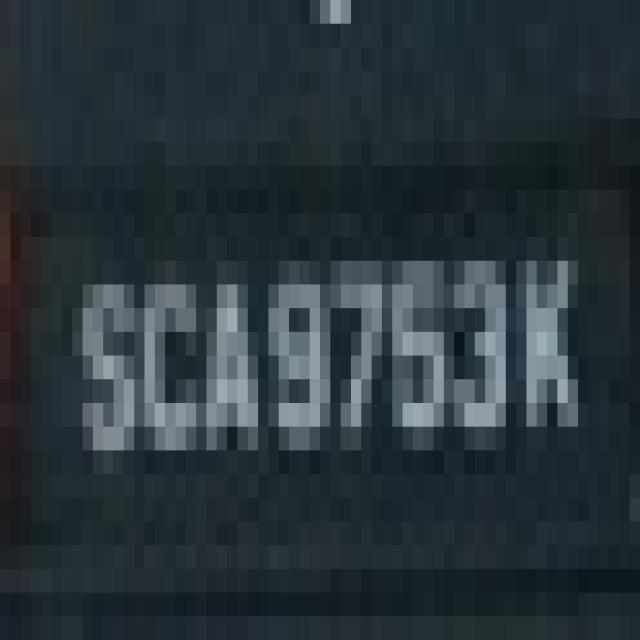LicensePlate: (31, 190, 617, 605)
